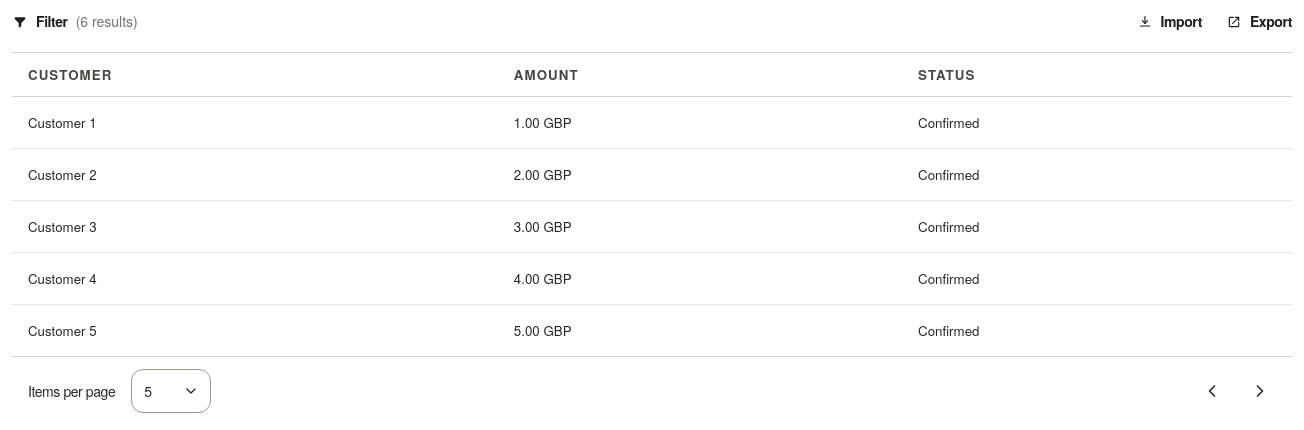
Test: DataTable › paginates table rows when data exceeds page size
Expected: the dropdown labelled "Items per page" shows "5", top-left (131, 369), bottom-right (211, 413)
Expected: the text "Customer 1" is shown, top-left (12, 96), bottom-right (498, 148)
Click the button named "Next page" at (1260, 391), box top-left (1244, 375), bottom-right (1276, 407)
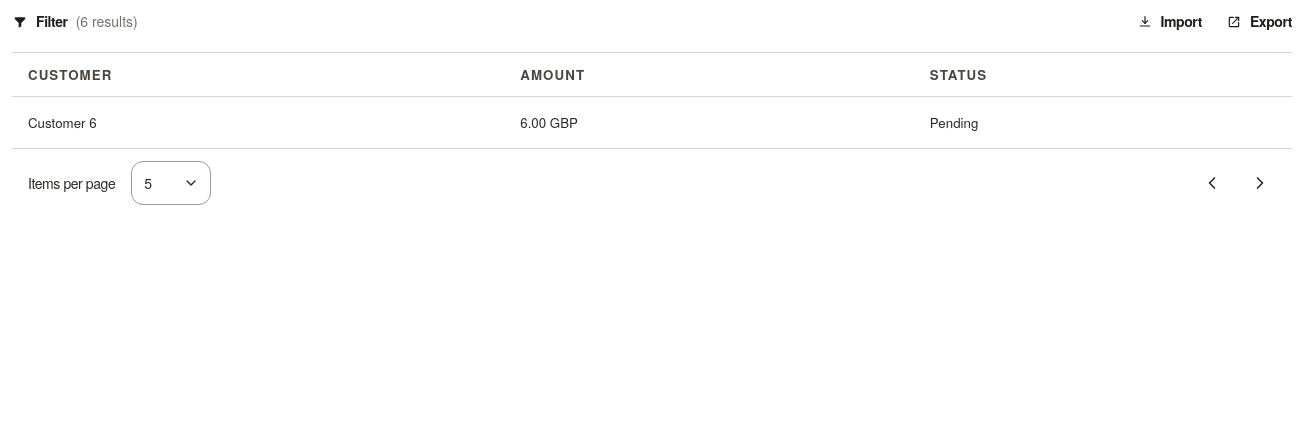
Expected: the text "Customer 6" is shown, top-left (12, 96), bottom-right (504, 148)
Expected: the text "Customer 1" is gone
